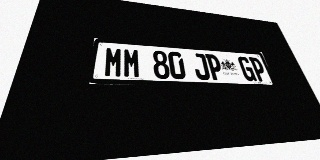0: (167, 51, 186, 79)
8: (152, 50, 170, 79)
G: (237, 56, 257, 81)
J: (191, 53, 211, 80)
M: (104, 47, 123, 78), (123, 48, 141, 78)
P: (248, 57, 269, 82), (205, 54, 225, 80)
